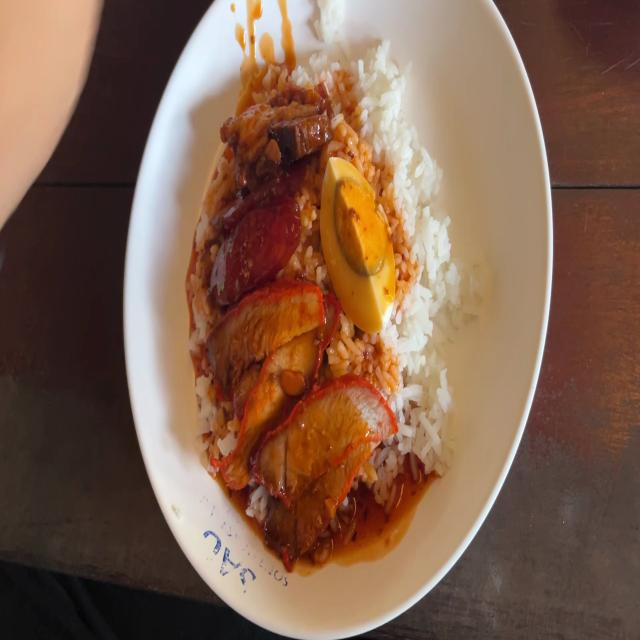01boiled_egg: (327, 158, 396, 338)
01chainese_sausage: (208, 174, 306, 293)
01crispy_pork: (221, 95, 329, 158)
01red_pork: (218, 289, 329, 520), (318, 380, 391, 509)
01red_pork_and_crispy_pork: (194, 50, 464, 506)
01rice: (397, 148, 459, 470), (328, 56, 412, 156)
